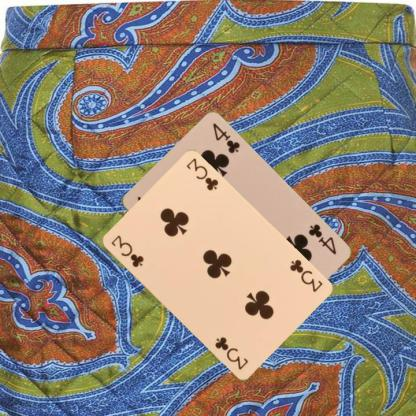3c: (286, 256, 324, 294), (108, 233, 145, 269)
4c: (305, 221, 337, 256)
